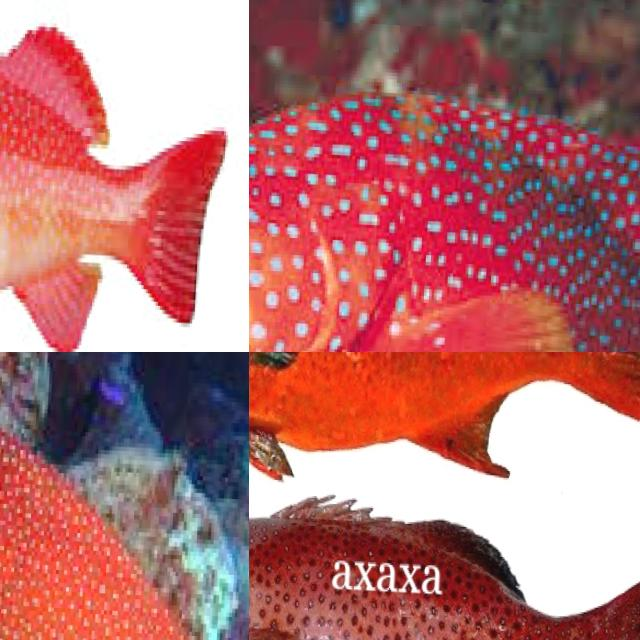Plectropomus-leopardus: (249, 18, 640, 352), (0, 0, 249, 352), (0, 352, 249, 640), (249, 352, 640, 525), (249, 475, 640, 640)
